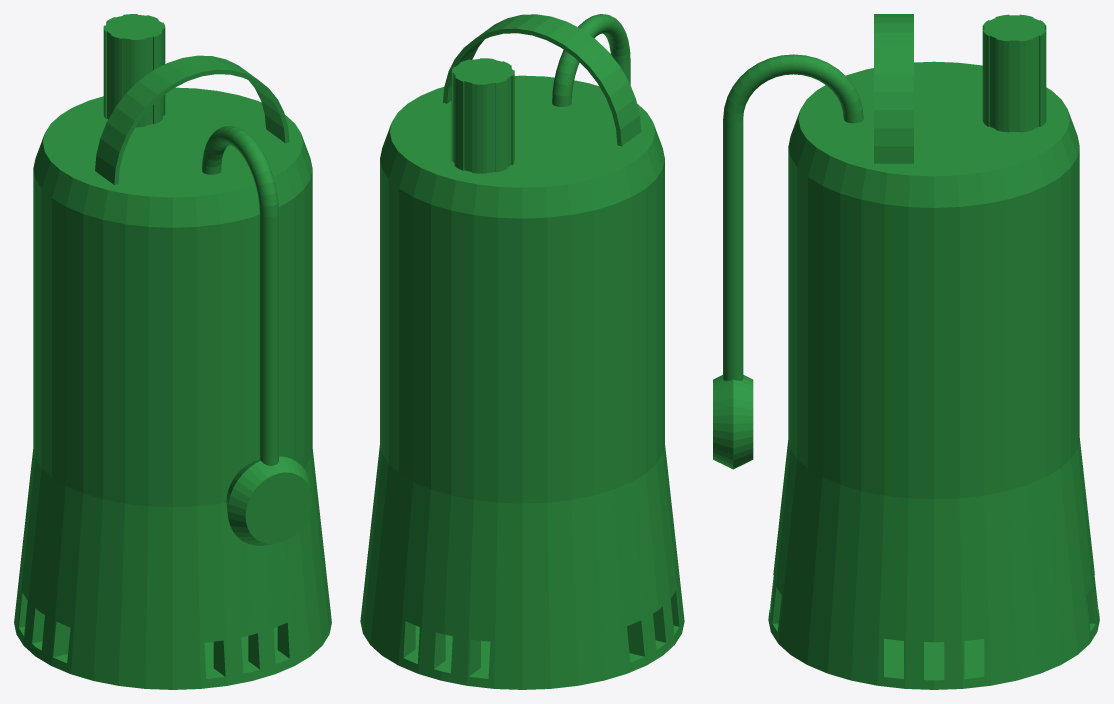
Rendered from patent1.glb.
3 renders of one model, left to right at view 1: azimuth 30°, elevation 25°; view 2: azimuth 150°, elevation 25°; view 3: azimuth 270°, elevation 25°, orthographic. The views are drawn at different scales.
Visible parts, largest first — view 1: Fake; view 2: Fake; view 3: Fake.
Part boxes in pixels (bbox=[...]): Fake: bbox=[14, 14, 331, 689]; Fake: bbox=[360, 14, 684, 689]; Fake: bbox=[713, 14, 1099, 689].
Bounding box in the file's own units: 0.165 × 0.3275 × 0.1925.
